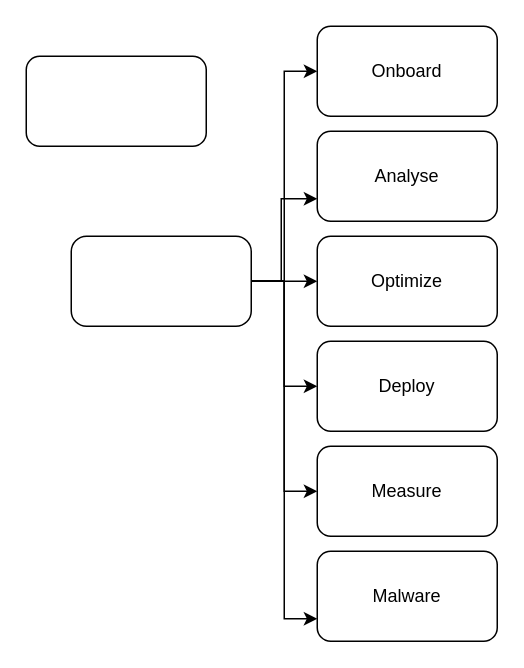
This 524x668 diagram has some shape labels left out. The shapes that lost their labels are listed below. From the top down, each one's centre as x and y in pixels, then its label:
the point at 115,100: Common
the point at 160,280: Repository API
